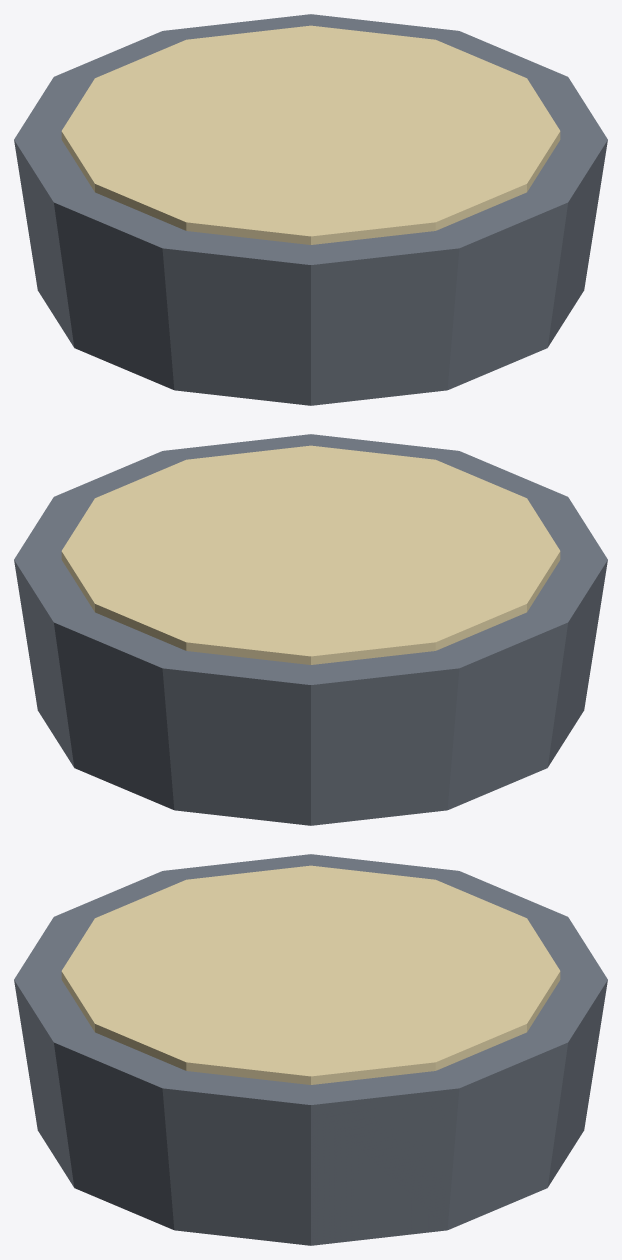
File: drop_cake_raw.glb
3 views of the same model, one above another, from view 1: azimuth 30°, elevation 25°; view 2: azimuth 150°, elevation 25°; view 3: azimuth 270°, elevation 25° (orthographic).
Parts seen in each view (by area): view 1: drop_cake_raw; view 2: drop_cake_raw; view 3: drop_cake_raw.
Part boxes in pixels (bbox=[...]): drop_cake_raw: bbox=[14, 14, 607, 405]; drop_cake_raw: bbox=[14, 434, 607, 825]; drop_cake_raw: bbox=[14, 854, 607, 1245].
Bounding box in the file's own units: 0.25 × 0.074 × 0.25.
